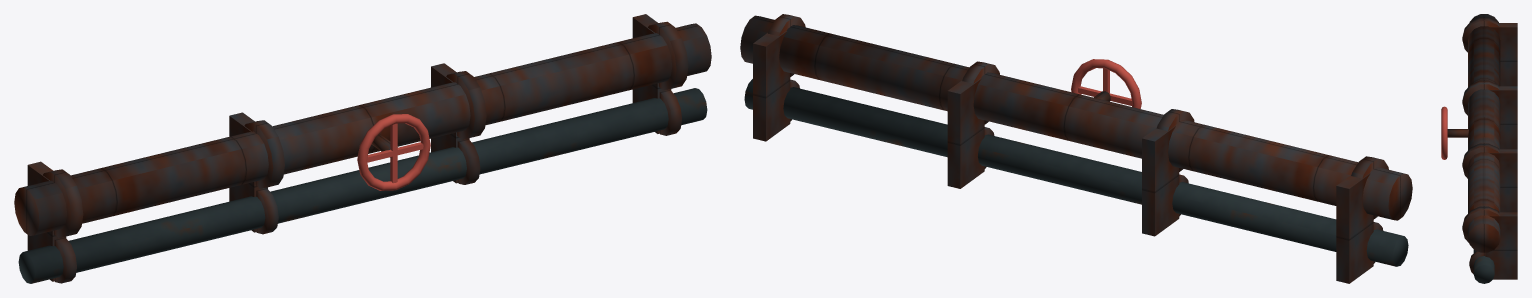
File: Prop_PipeAssembly.fbx
The picture shows the model from 3 angles, left to right: view 1: azimuth 30°, elevation 25°; view 2: azimuth 150°, elevation 25°; view 3: azimuth 270°, elevation 25°; orthographic projection. The views are drawn at different scales.
Visible parts, largest first — view 1: Prop_PipeAssembly; view 2: Prop_PipeAssembly; view 3: Prop_PipeAssembly.
Part boxes in pixels (x1,y1,x2,y2): Prop_PipeAssembly: [14, 14, 711, 283]; Prop_PipeAssembly: [740, 14, 1412, 283]; Prop_PipeAssembly: [1441, 14, 1517, 283].
Bounding box in the file's own units: 4 × 0.656 × 0.616.
